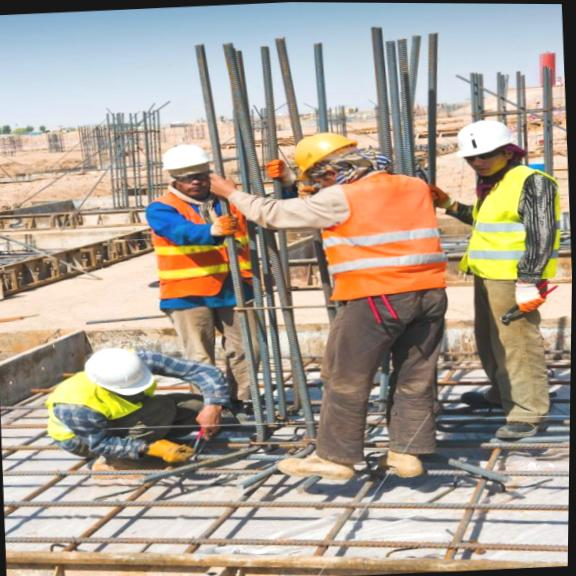safety_vest: (311, 154, 450, 319), (35, 344, 178, 448), (460, 151, 565, 290), (140, 186, 266, 299)
